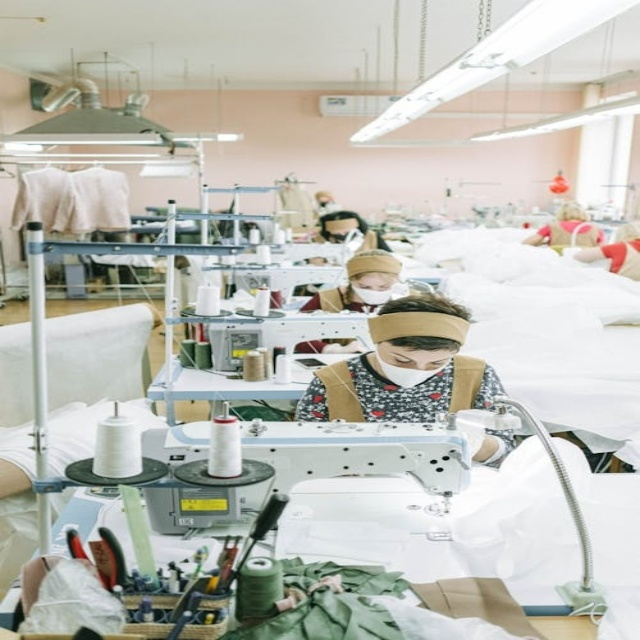Mascara: (372, 346, 456, 388), (347, 285, 397, 307)
Sin_gafas: (383, 349, 453, 369), (352, 276, 401, 290)
